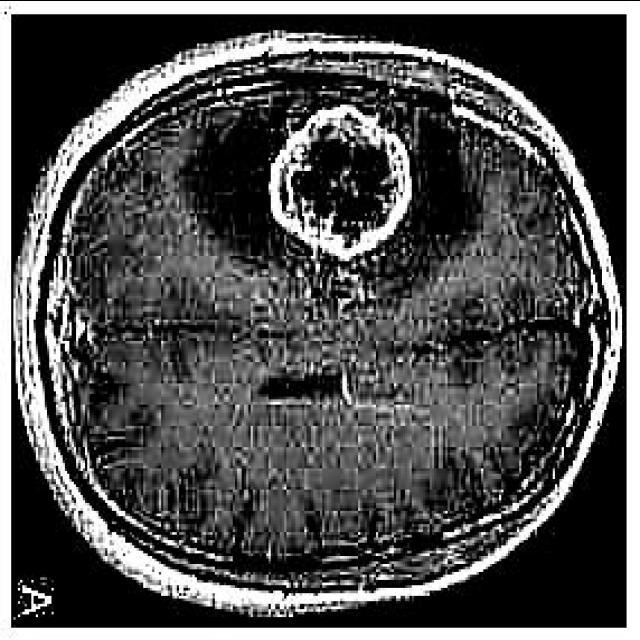tumor: (269, 101, 418, 260)
